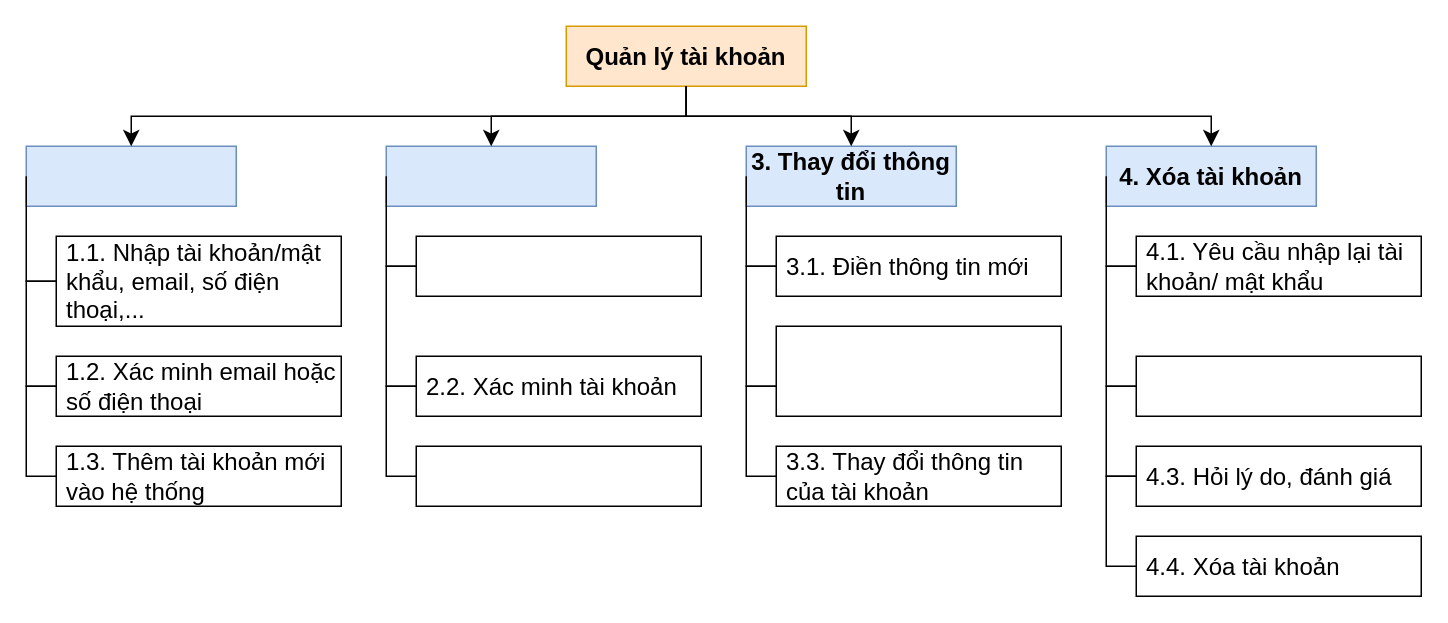
This 1448x623 diagram has some shape labels left out. The shapes that lost their labels are listed below. From the top down, each one's centre as x and y in pixels, then its label:
point (130, 175): 1. Đăng ký
point (490, 175): 2. Đăng nhập
point (558, 265): 2.1. Nhập tài khoản/mật khẩu
point (918, 370): 3.2. Xác minh email/ số điện thoại (nếu có sự thay đổi
point (1278, 385): 4.2. Xác minh tài khoản
point (558, 475): 2.3. Từ chối đăng nhập hoặc tra về token
